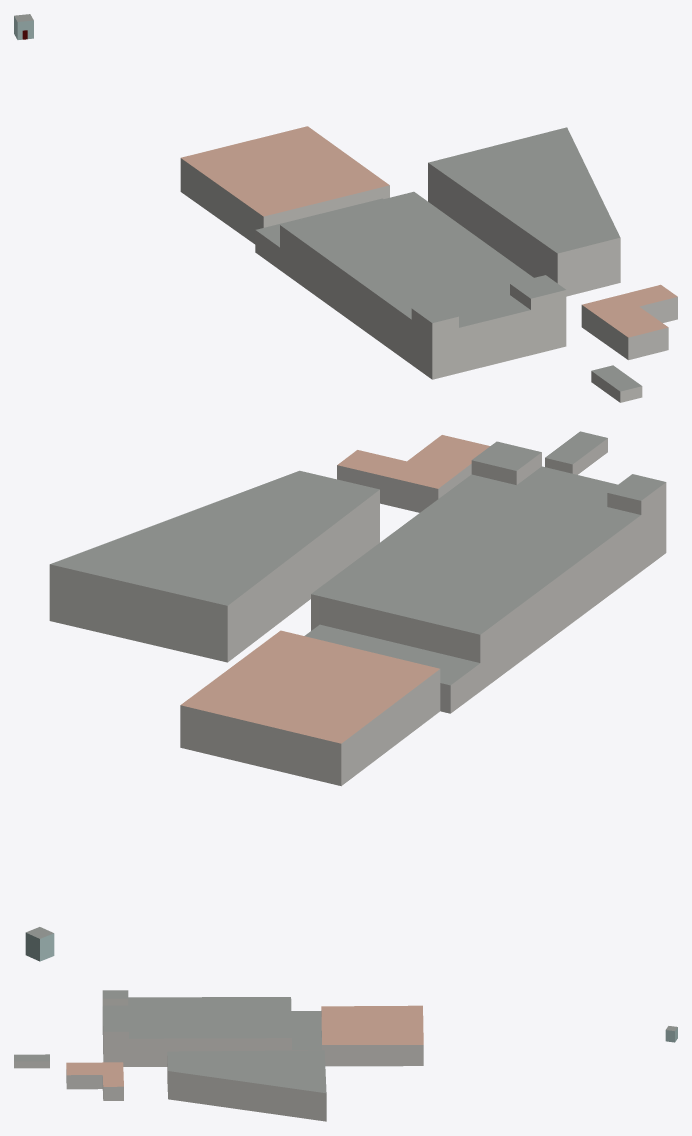
Rendered from gridID_99.dae.
3 views of the same model, one above another, from view 1: azimuth 30°, elevation 25°; view 2: azimuth 150°, elevation 25°; view 3: azimuth 270°, elevation 25° (orthographic). The views are drawn at different scales.
Visible parts, largest first — view 1: model_gridID_99_w291063654_006, model_gridID_99_w384967994, model_gridID_99_w388103025_001, model_gridID_99_w388260913; view 2: model_gridID_99_w291063654_006, model_gridID_99_w384967994, model_gridID_99_w388103025_001, model_gridID_99_w388260913, model_gridID_99_w291063654; view 3: model_gridID_99_w291063654_006, model_gridID_99_w384967994, model_gridID_99_w388103025_001, model_gridID_99_w388260913.
Part boxes in pixels (<box>): model_gridID_99_w291063654_006: <box>180,126,566,379</box>; model_gridID_99_w384967994: <box>428,127,620,296</box>; model_gridID_99_w388103025_001: <box>581,284,677,360</box>; model_gridID_99_w388260913: <box>591,365,642,402</box>; model_gridID_99_w291063654_006: <box>180,441,666,786</box>; model_gridID_99_w384967994: <box>49,470,379,662</box>; model_gridID_99_w388103025_001: <box>337,435,489,512</box>; model_gridID_99_w388260913: <box>545,431,607,474</box>; model_gridID_99_w291063654: <box>25,927,54,961</box>; model_gridID_99_w291063654_006: <box>102,990,423,1066</box>; model_gridID_99_w384967994: <box>167,1050,326,1121</box>; model_gridID_99_w388103025_001: <box>66,1062,123,1100</box>; model_gridID_99_w388260913: <box>14,1054,49,1068</box>.
Bounding box in the file's own units: 73.01 × 212 × 12.5.
